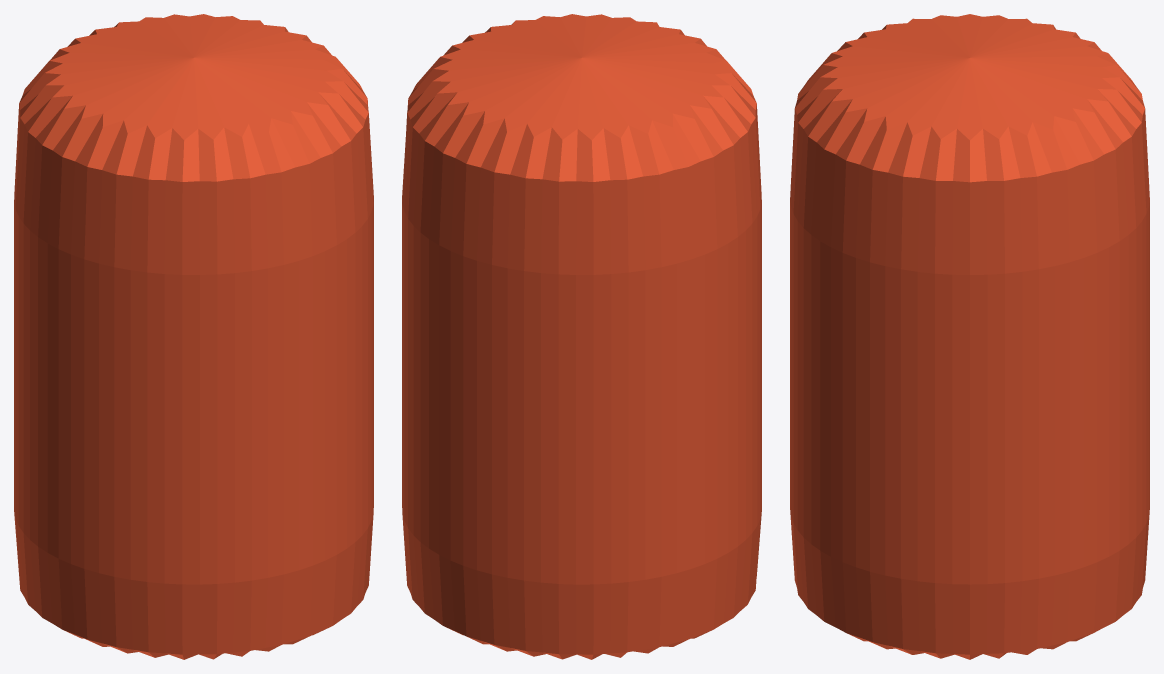
File: palm_tree_stump.glb
3 views of the same model, side by side, from view 1: azimuth 30°, elevation 25°; view 2: azimuth 150°, elevation 25°; view 3: azimuth 270°, elevation 25° (orthographic).
Visible parts, largest first — view 1: Stump; view 2: Stump; view 3: Stump.
Part boxes in pixels (bbox=[...]): Stump: bbox=[14, 14, 373, 659]; Stump: bbox=[402, 14, 761, 659]; Stump: bbox=[790, 14, 1149, 659].
Size of the model in its own units: 2.38 by 3.98 by 2.38.
